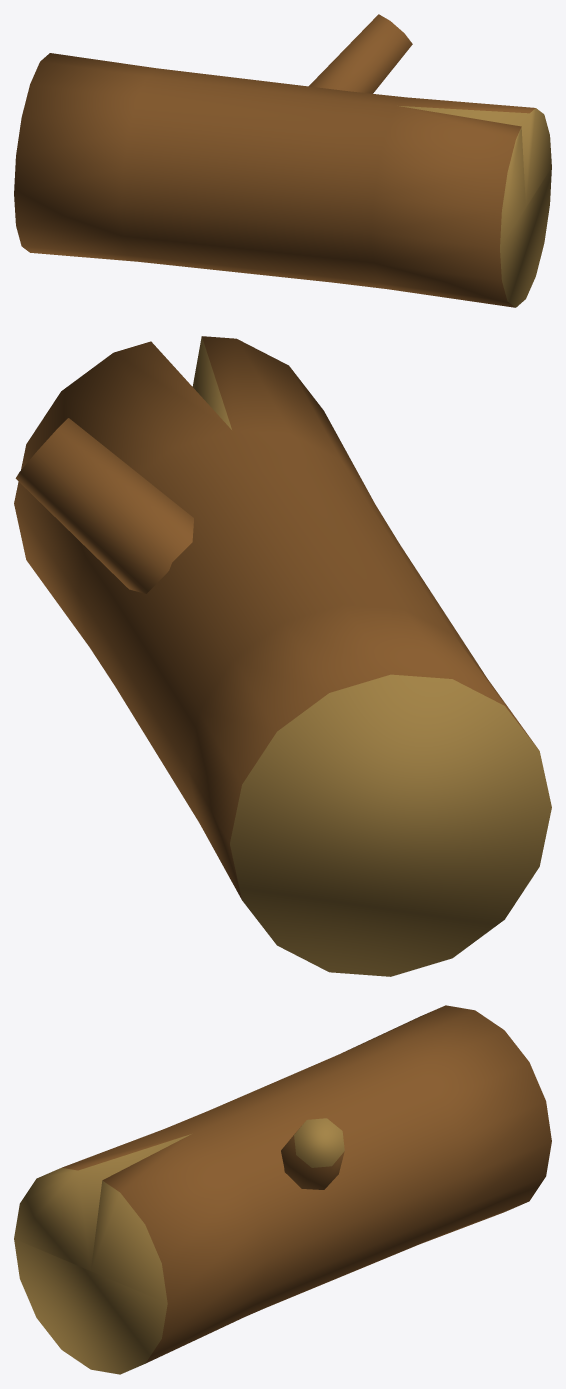
File: log.fbx
The picture shows the model from 3 angles, top to bottom: view 1: azimuth 30°, elevation 25°; view 2: azimuth 150°, elevation 25°; view 3: azimuth 270°, elevation 25°; orthographic projection. The views are drawn at different scales.
Visible parts, largest first — view 1: Cylinder; view 2: Cylinder; view 3: Cylinder.
Boxes of the visible parts, bbox=[...] form: Cylinder: bbox=[14, 14, 551, 307]; Cylinder: bbox=[14, 336, 551, 976]; Cylinder: bbox=[14, 1005, 551, 1374].
Size of the model in its own units: 69.3 by 32.9 by 69.3.
